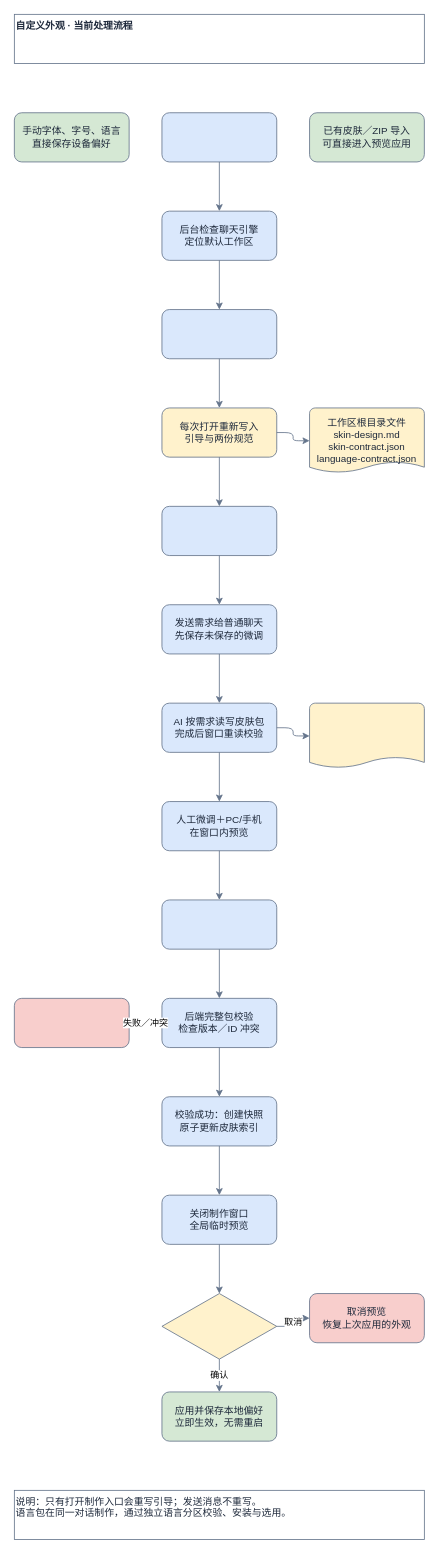
Image size: 439x1554. Some labels were removed from this diagram. The centre of each missing label's shape, as x and y in pixels:
准备技能 创建或复用普通聊天: (219,334)
校验或版本冲突 提示错误／重新读取 同 ID 替换须确认: (71,1023)
点击保存预览 保存草稿并注册: (219,924)
确认应用？: (219,1326)
窗口读取并校验草稿 不存在则显示默认草稿: (219,531)
草稿包（默认 skin/） skin.json tokens.json components.json／图片: (366,735)
设置 → 外观 打开制作／复制皮肤: (219,137)
